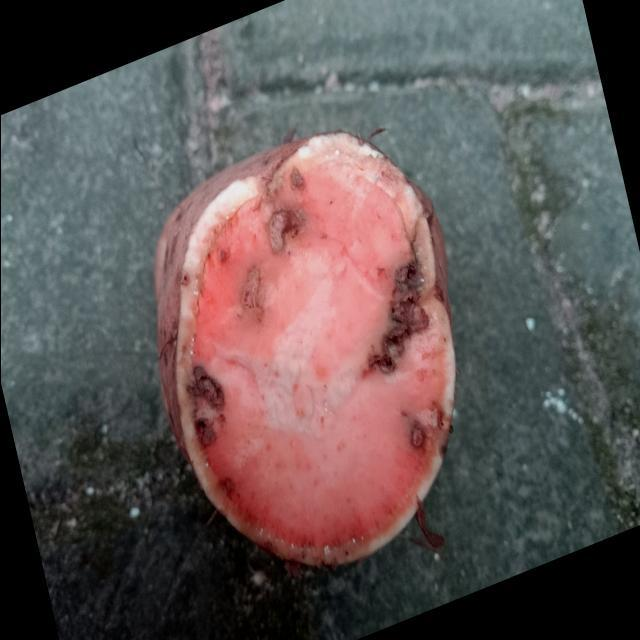Sick Sweet Potato_Tuber Rot: (154, 132, 455, 565)
